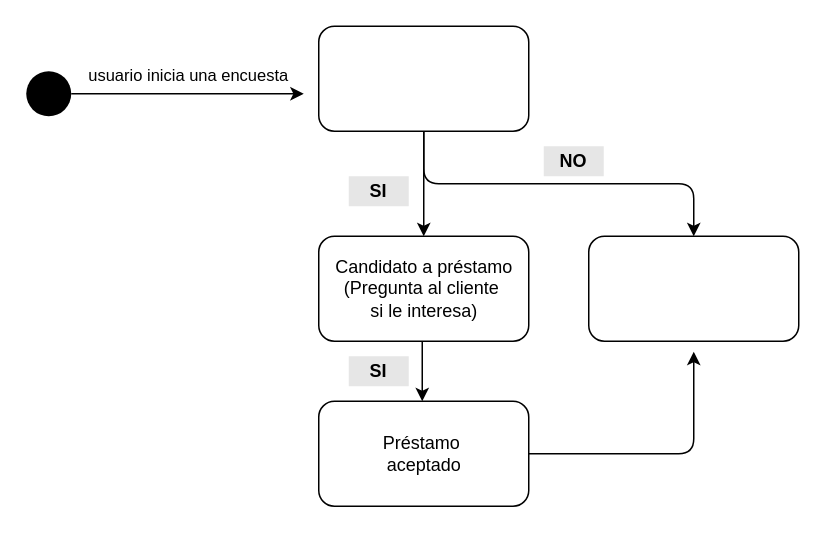
Image size: 825x533. Some labels were removed from this diagram. The shapes that lost their labels are listed below. From the top down, each one's centre as x and y in pixels, then its label:
(423,78): Encuesta iniciada ¿Es mayor de edad?
(693,288): Encuesta finalizada
